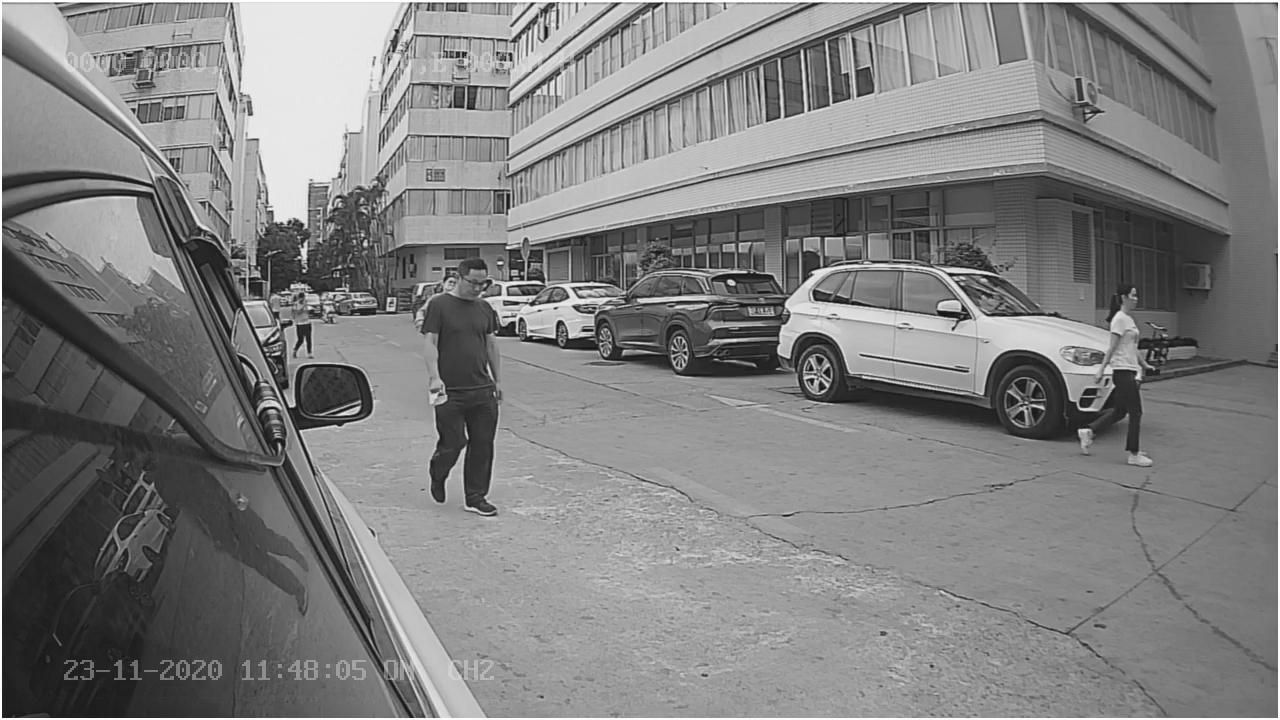person: (407, 254, 515, 523), (1073, 274, 1171, 469)
